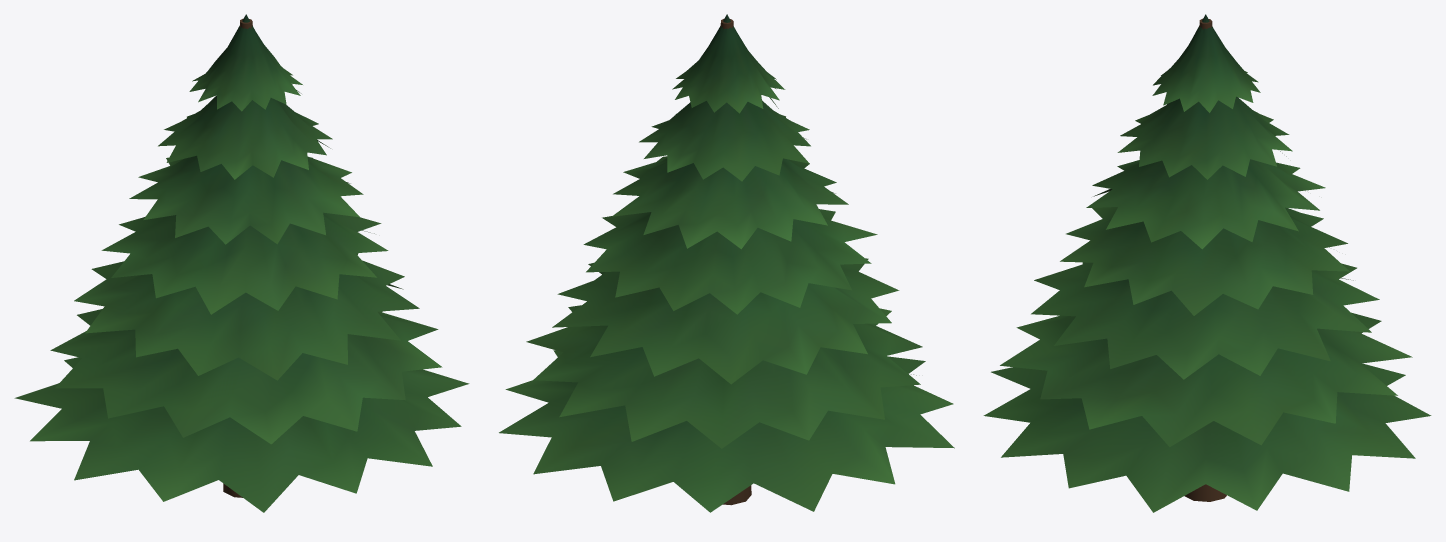
Rendered from tree_pine_b.glb.
3 renders of one model, left to right at view 1: azimuth 30°, elevation 25°; view 2: azimuth 150°, elevation 25°; view 3: azimuth 270°, elevation 25°, orthographic.
Parts seen in each view (by area): view 1: tree_pine_b; view 2: tree_pine_b; view 3: tree_pine_b.
Boxes of the visible parts, x1=… form: tree_pine_b: x1=14, y1=14, x2=469, y2=512; tree_pine_b: x1=499, y1=14, x2=954, y2=512; tree_pine_b: x1=983, y1=14, x2=1431, y2=512.
Bounding box in the file's own units: 6.79 × 7.78 × 6.61.
